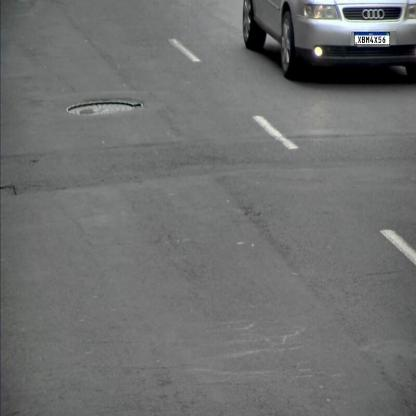PlacaM: (354, 32, 390, 45)
